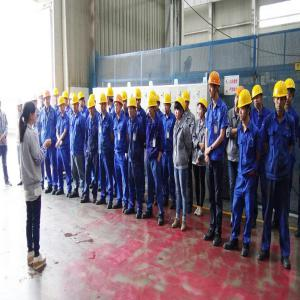none: (22, 101, 38, 129)
white: (17, 98, 24, 114)
yellow: (273, 81, 288, 114), (239, 90, 252, 122), (209, 71, 221, 100), (285, 80, 296, 108), (253, 85, 264, 110), (175, 98, 186, 121), (149, 97, 158, 120), (129, 97, 138, 120), (198, 98, 208, 118), (114, 95, 123, 116), (107, 87, 116, 107), (88, 98, 97, 118), (164, 95, 173, 114), (71, 95, 80, 114), (236, 87, 244, 108), (183, 92, 191, 112), (100, 94, 108, 113), (78, 91, 86, 109), (135, 89, 142, 109), (45, 90, 52, 110), (59, 97, 66, 115), (53, 88, 60, 106), (123, 91, 128, 110), (64, 92, 69, 109)
